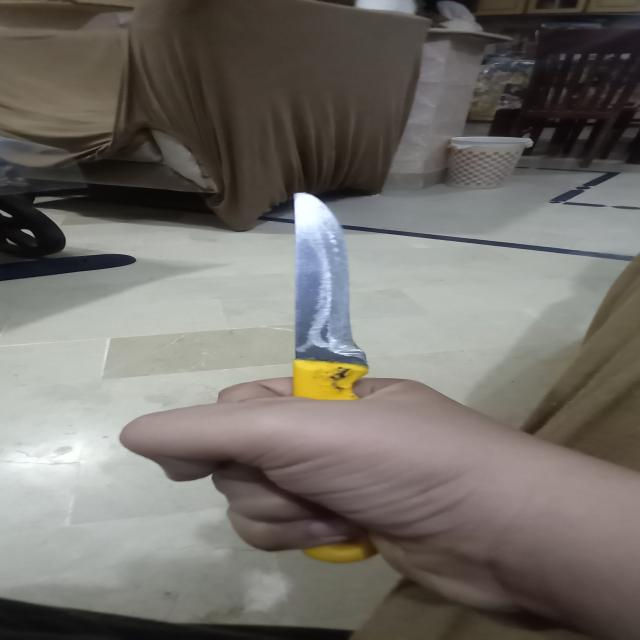Knife: (242, 171, 399, 567)
